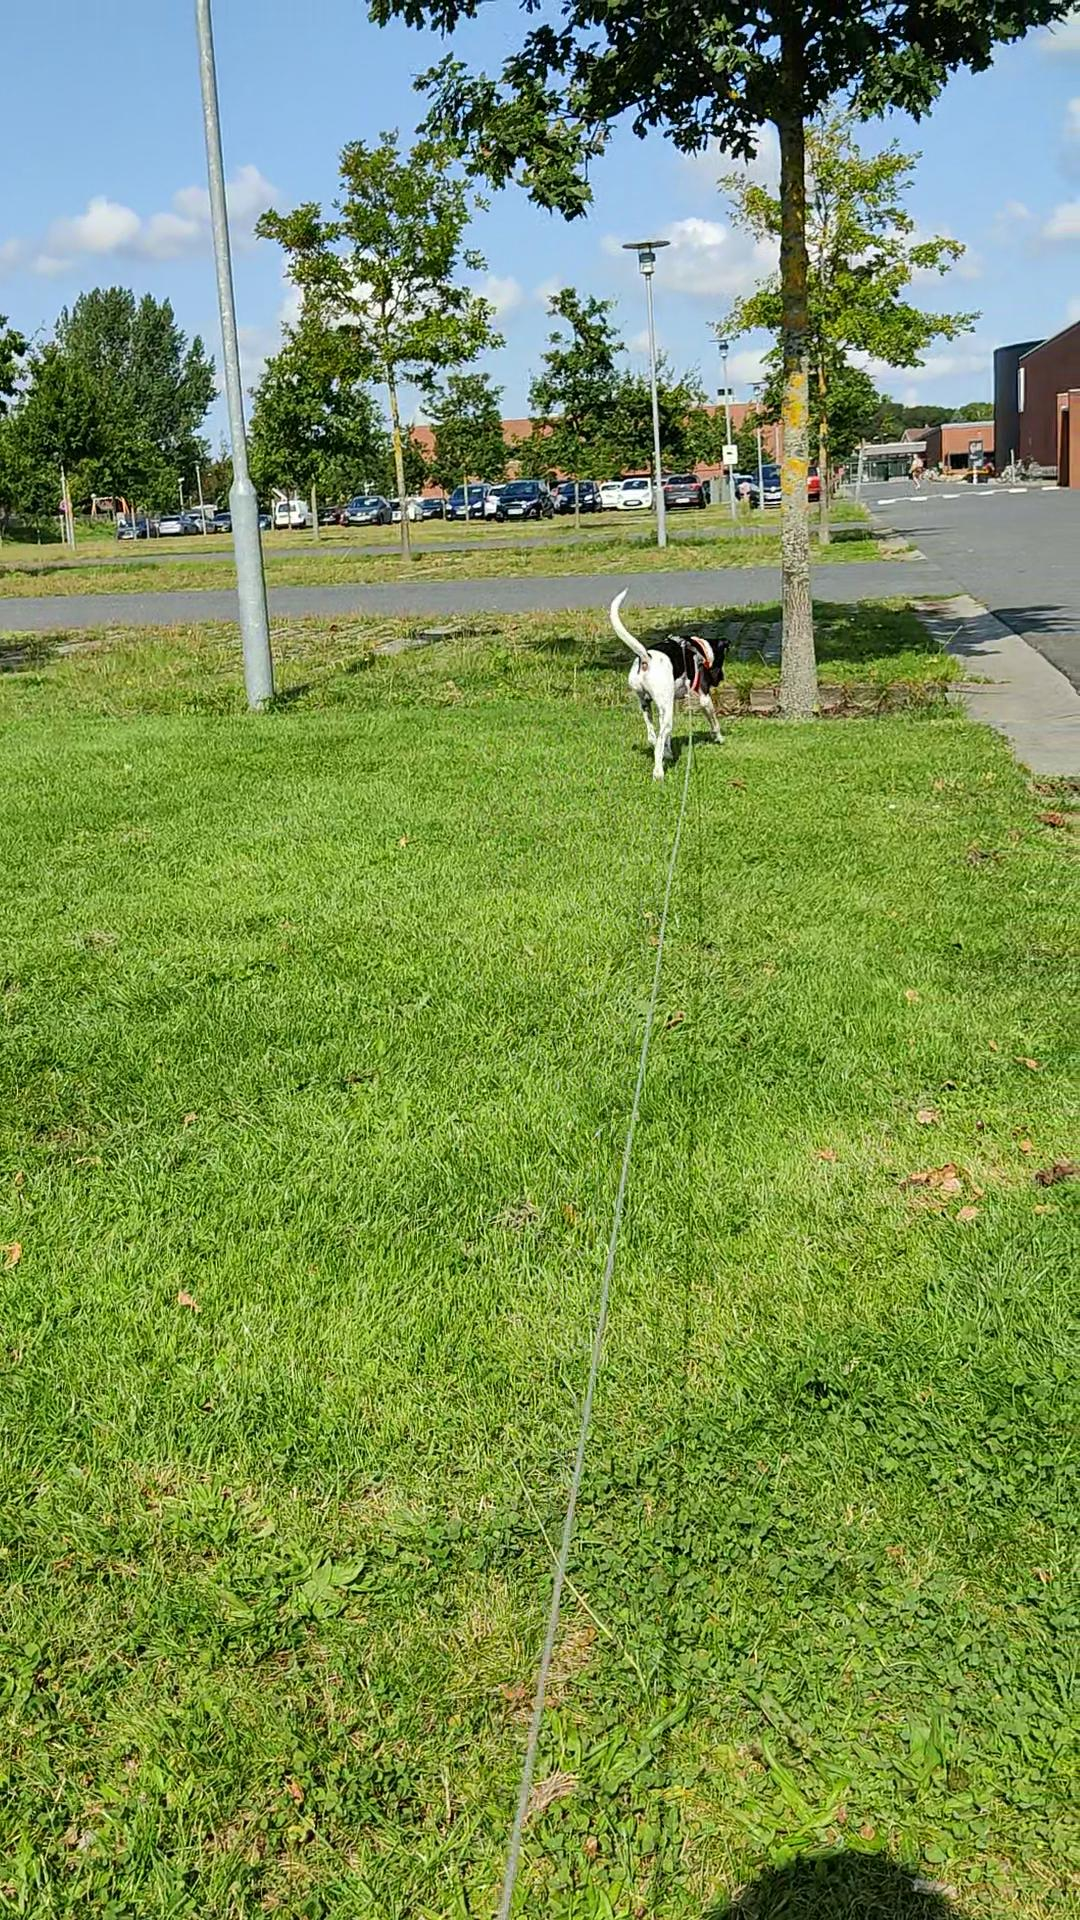Dog: (605, 584, 736, 781)
